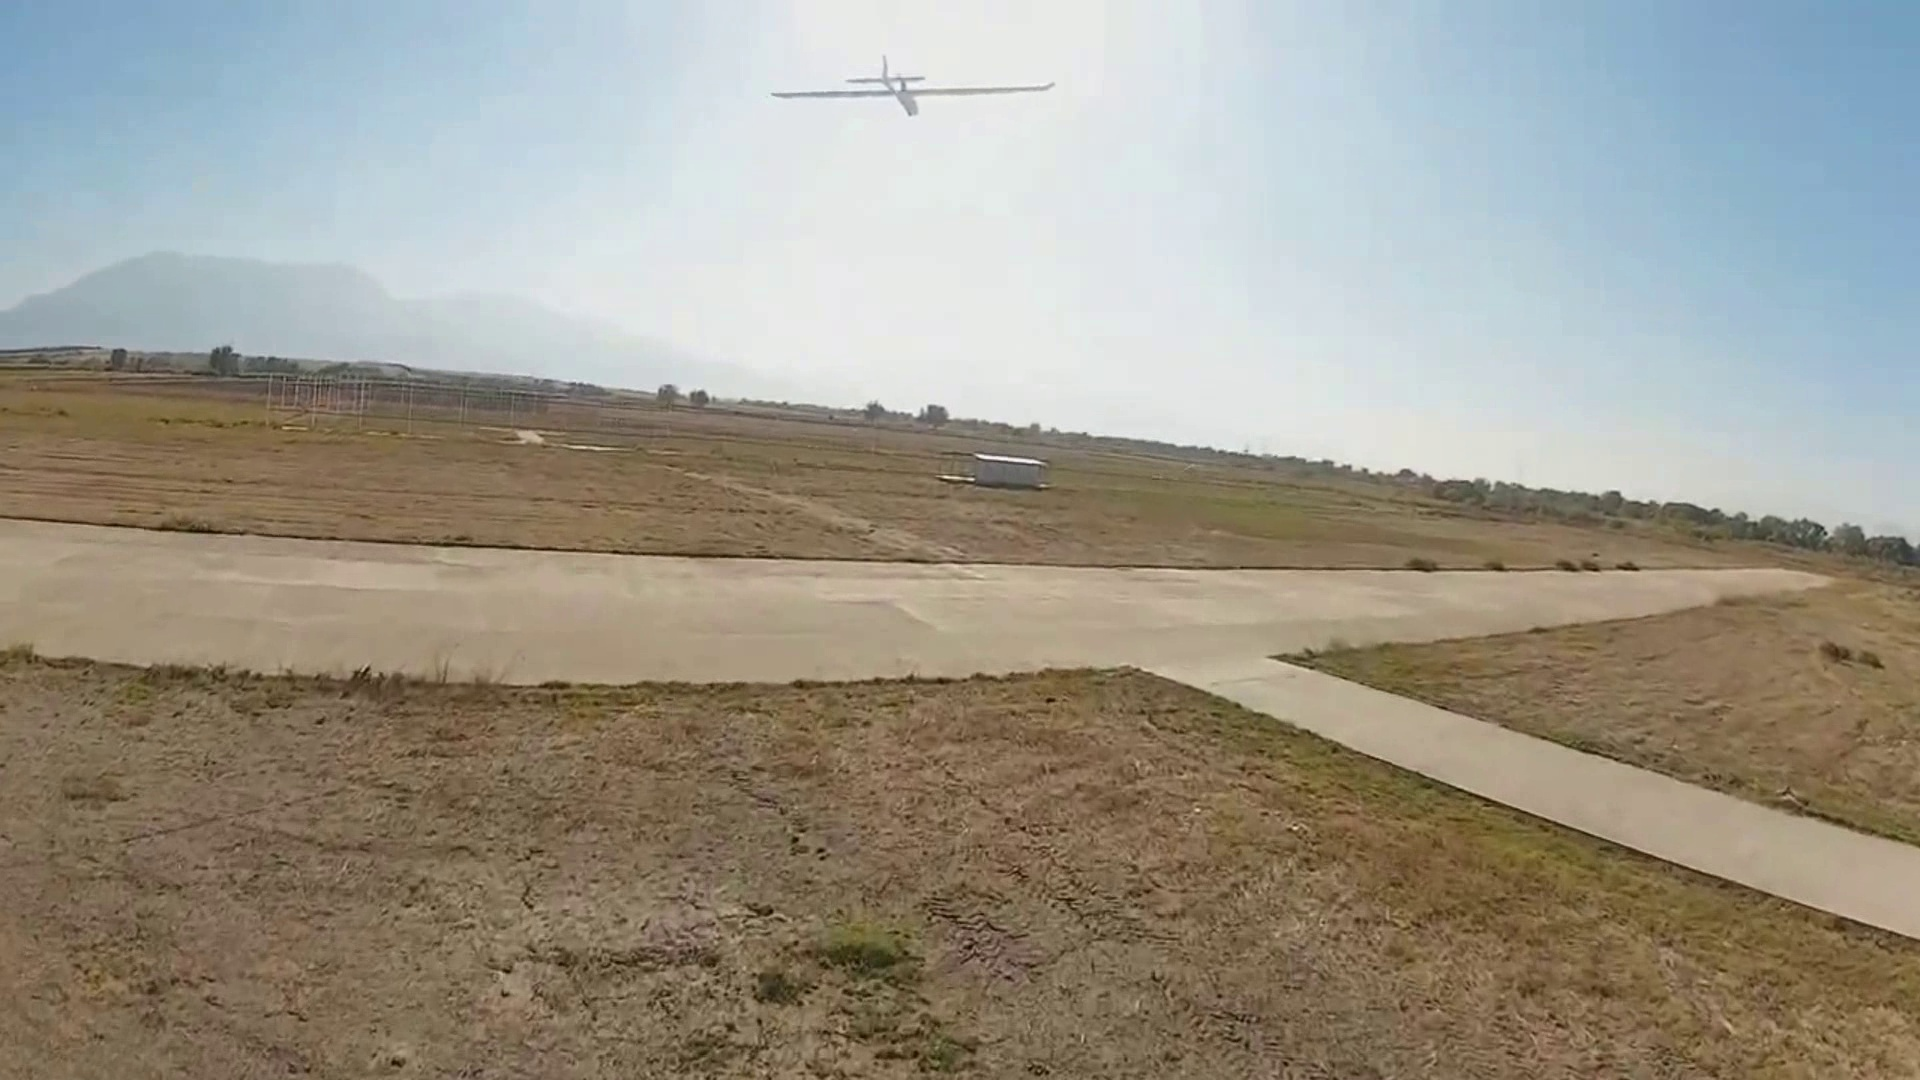airplane: (767, 59, 1059, 119)
